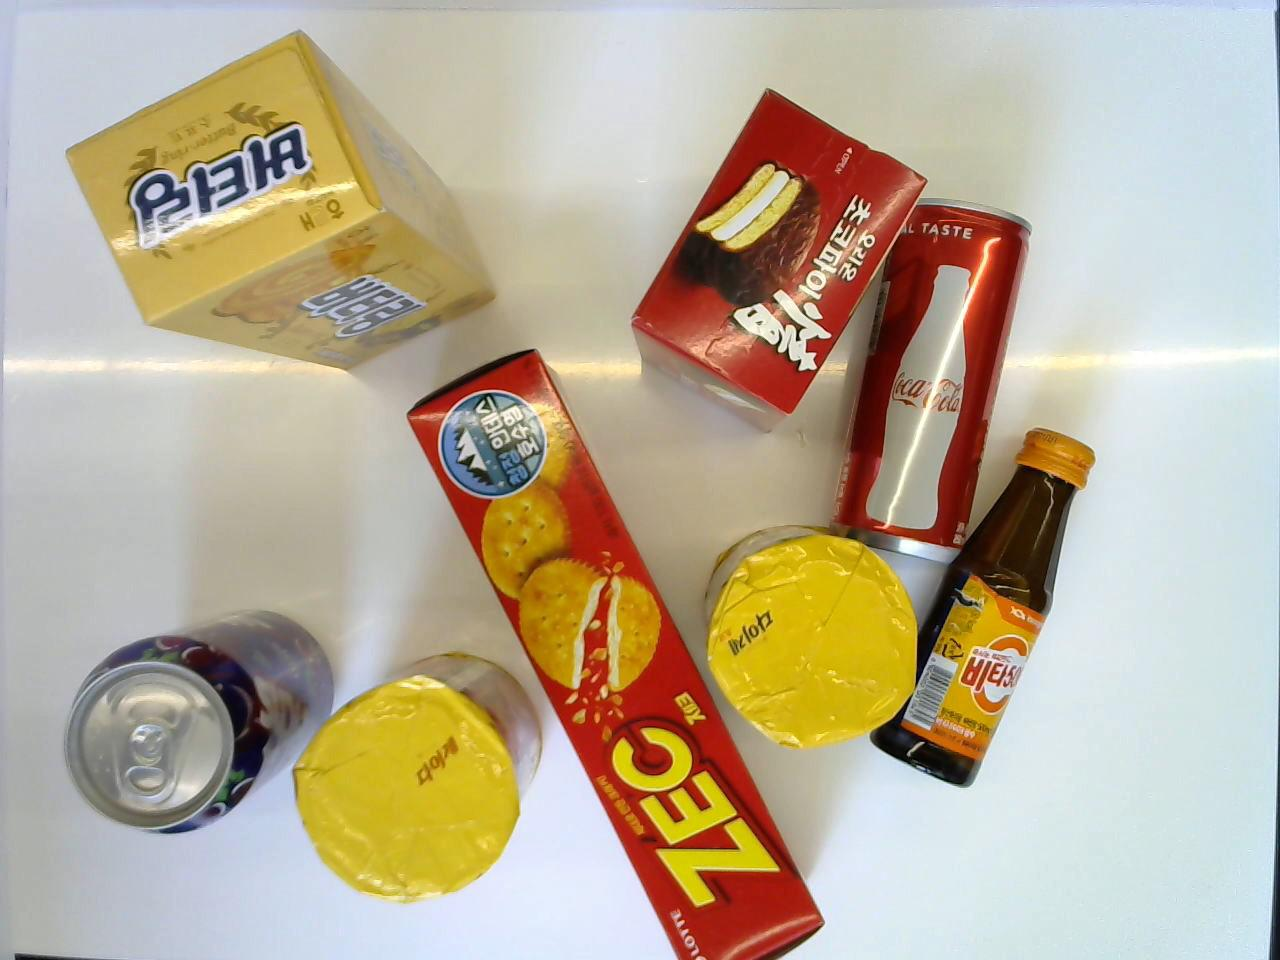buttering: (61, 28, 496, 374)
chocopie: (625, 83, 929, 438)
coke: (826, 192, 1031, 565)
diget_choco: (286, 649, 547, 899)
diget_ori: (702, 519, 918, 747)
vita500: (872, 422, 1095, 788)
welchs: (59, 604, 335, 838)
zec: (402, 350, 826, 958)
